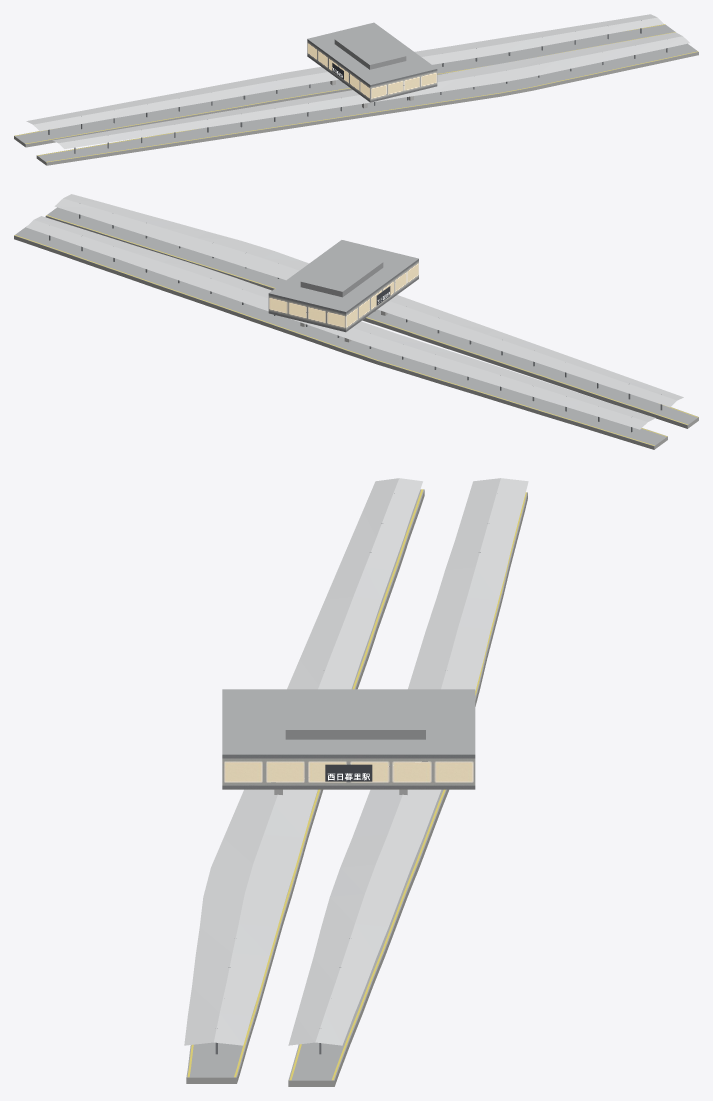
The model's file is nishinippori_station.glb.
3 renders of one model, top to bottom at view 1: azimuth 30°, elevation 25°; view 2: azimuth 150°, elevation 25°; view 3: azimuth 270°, elevation 25°, orthographic. The views are drawn at different scales.
Visible parts, largest first — view 1: NN_Station; view 2: NN_Station; view 3: NN_Station.
Boxes of the visible parts, x1,y1,x2,y2 form: NN_Station: (14,14,698,165); NN_Station: (14,194,698,449); NN_Station: (184,478,528,1086).
Size of the model in its own units: 199 by 14.5 by 49.
10 materials, 1 textured.
